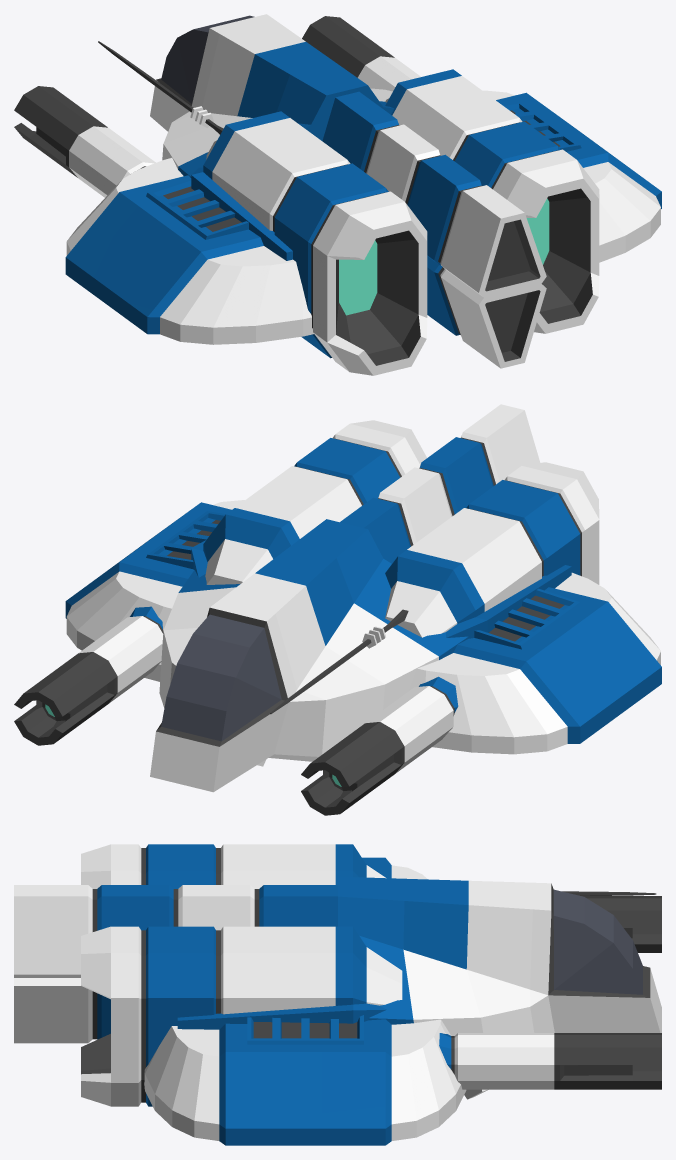
The model's file is Ship1.glb.
3 renders of one model, top to bottom at view 1: azimuth 30°, elevation 25°; view 2: azimuth 150°, elevation 25°; view 3: azimuth 270°, elevation 25°, orthographic. The views are drawn at different scales.
Visible parts, largest first — view 1: mergedBlocks(Clone); view 2: mergedBlocks(Clone); view 3: mergedBlocks(Clone).
Boxes of the visible parts, x1,y1,x2,y2 form: mergedBlocks(Clone): [14, 14, 661, 375]; mergedBlocks(Clone): [14, 404, 661, 815]; mergedBlocks(Clone): [14, 844, 661, 1145].
Size of the model in its own units: 1.79 by 0.589 by 2.
